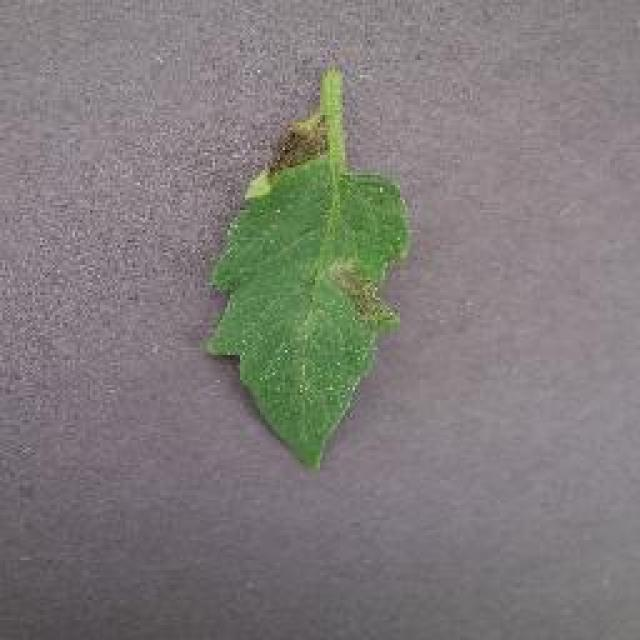Tomato___Late_blight: (202, 70, 412, 472)
